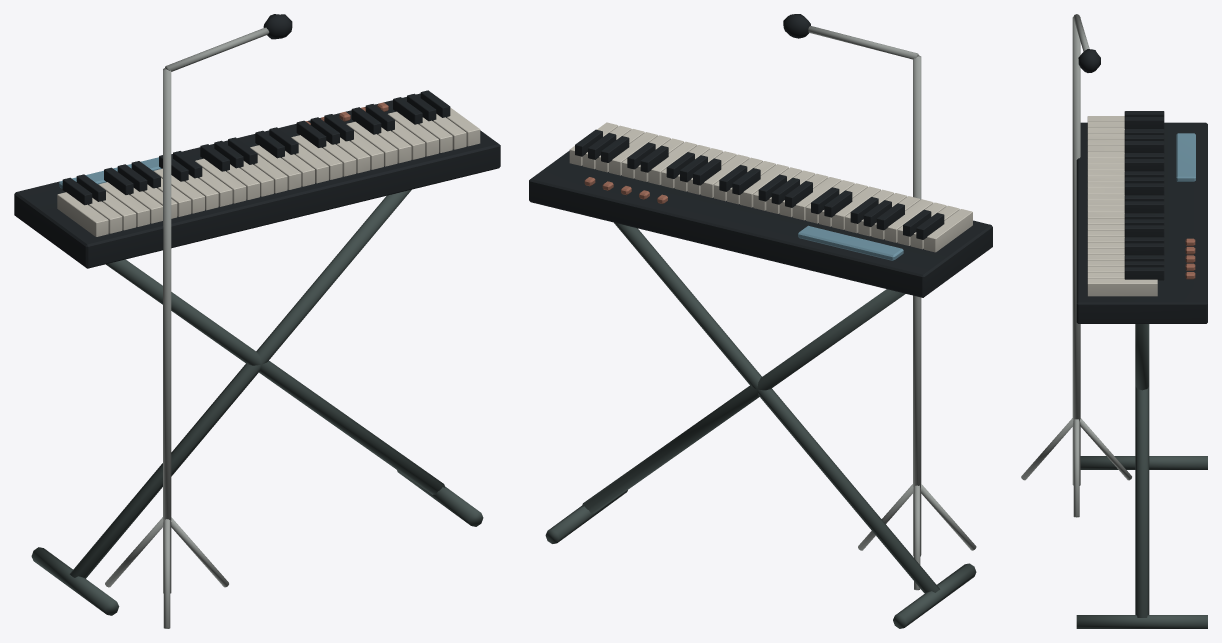
The model's file is instrument-03-keyboard.glb.
3 views of the same model, side by side, from view 1: azimuth 30°, elevation 25°; view 2: azimuth 150°, elevation 25°; view 3: azimuth 270°, elevation 25° (orthographic). The views are drawn at different scales.
Parts seen in each view (by area): view 1: keyboard_twod_geometry; view 2: keyboard_twod_geometry; view 3: keyboard_twod_geometry.
Boxes of the visible parts, x1,y1,x2,y2 form: keyboard_twod_geometry: (14, 14, 500, 628); keyboard_twod_geometry: (529, 14, 992, 628); keyboard_twod_geometry: (1021, 14, 1207, 628).
Size of the model in its own units: 0.98 by 1.25 by 0.4272.
